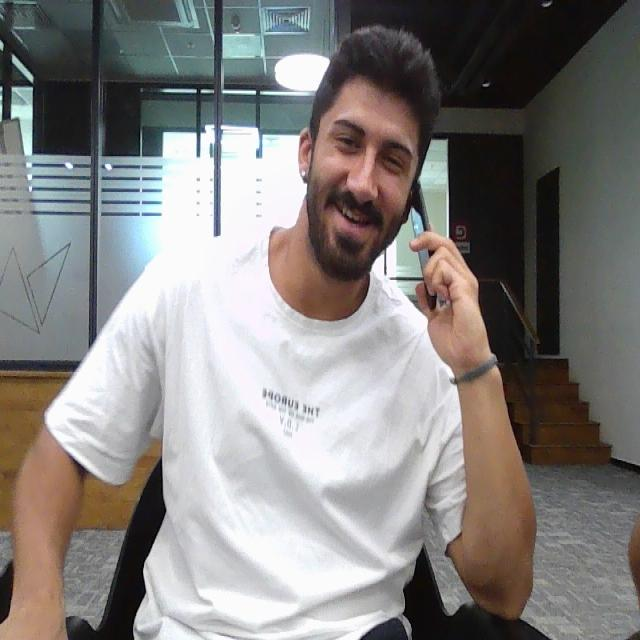phone: (409, 176, 438, 312)
